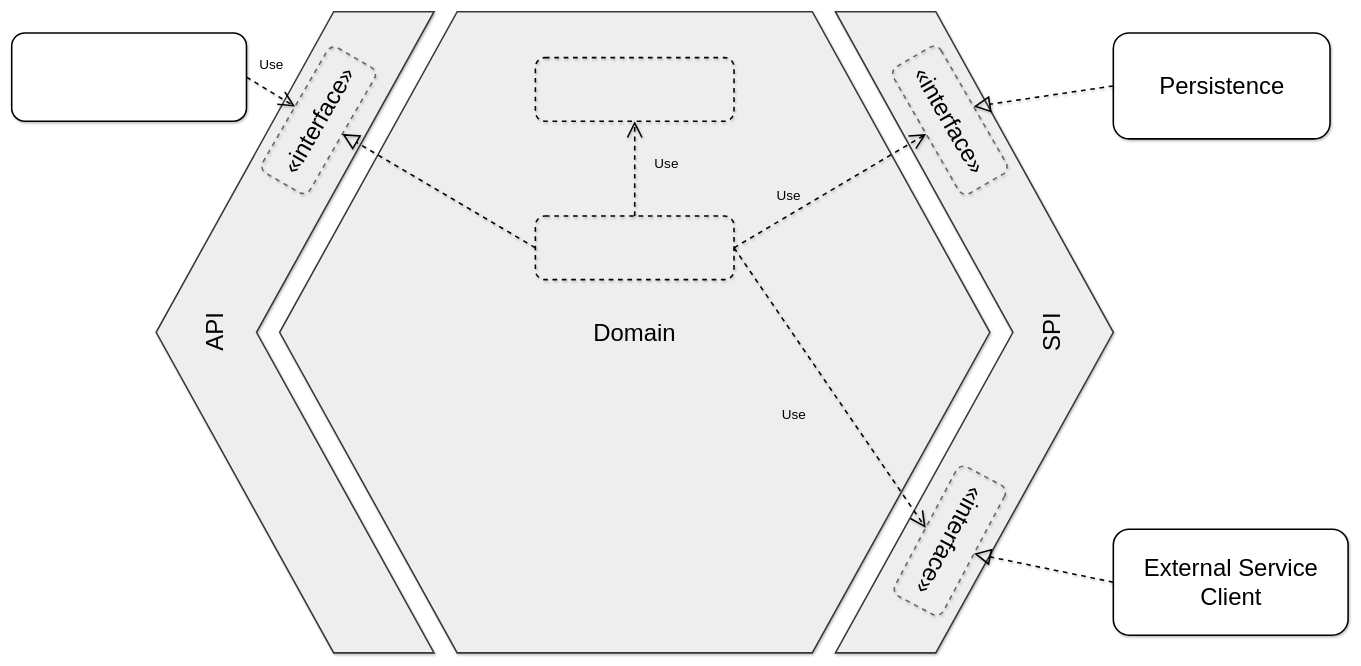
Image size: 1361x666. Some labels were removed from this diagram. The centre of each missing label's shape, as x and y in pixels:
"Controller" belongs at pixel 129 77.
"Domain Objects" belongs at pixel 635 89.
"Domain Service" belongs at pixel 635 248.
